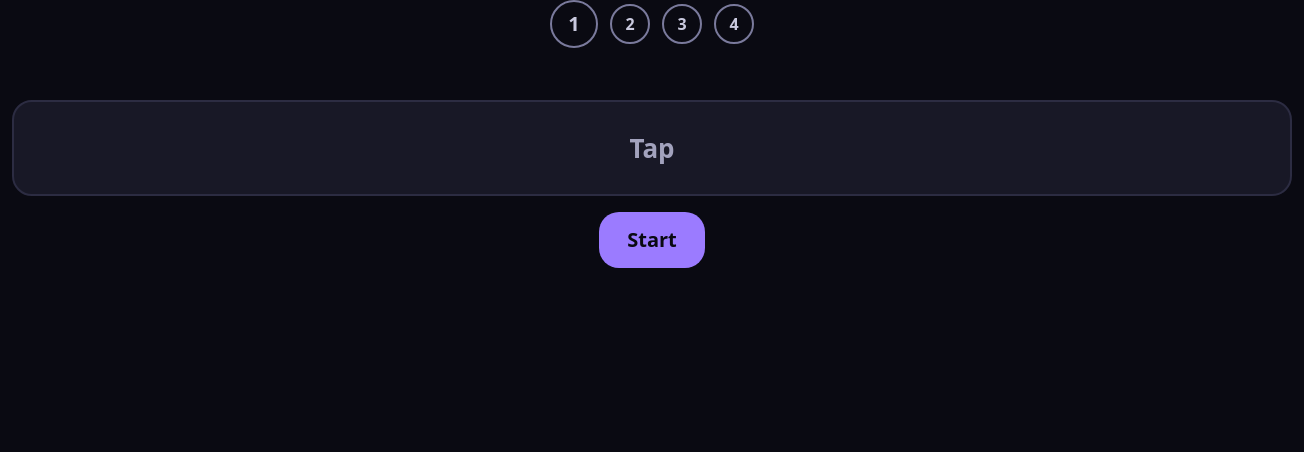
Test: RhythmPad perform mode › reports early, late, missed and extra taps with text labels
The image size is (1304, 452).
Step 1. Click the button "Start" → coordinates (652, 240), box [599, 212, 705, 268]
Wait 1999 ms
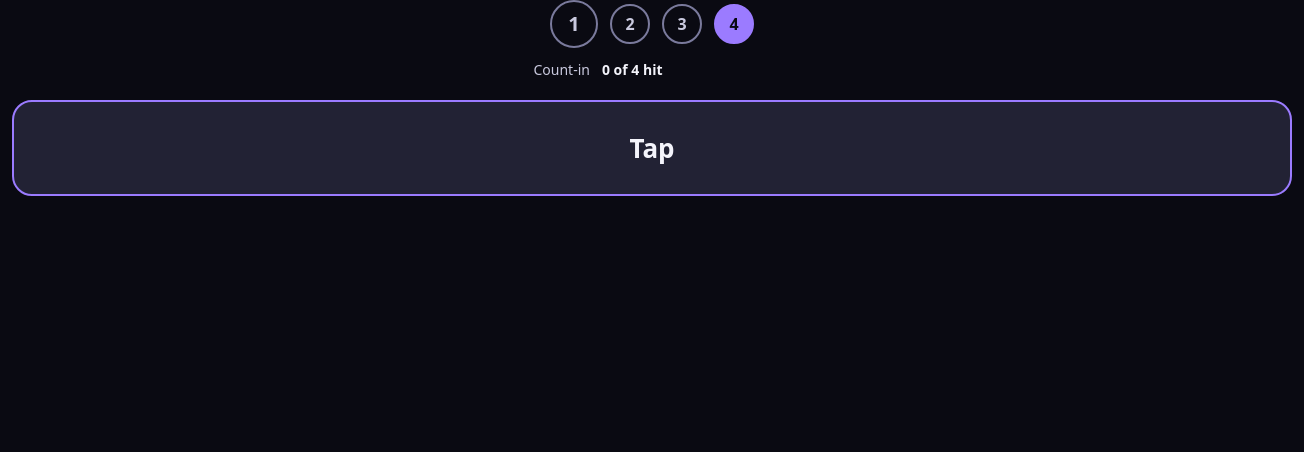
Step 2. Press the mouse on the button with test id "tap-target" → coordinates (652, 148), box [12, 100, 1292, 196]
Wait 719 ms
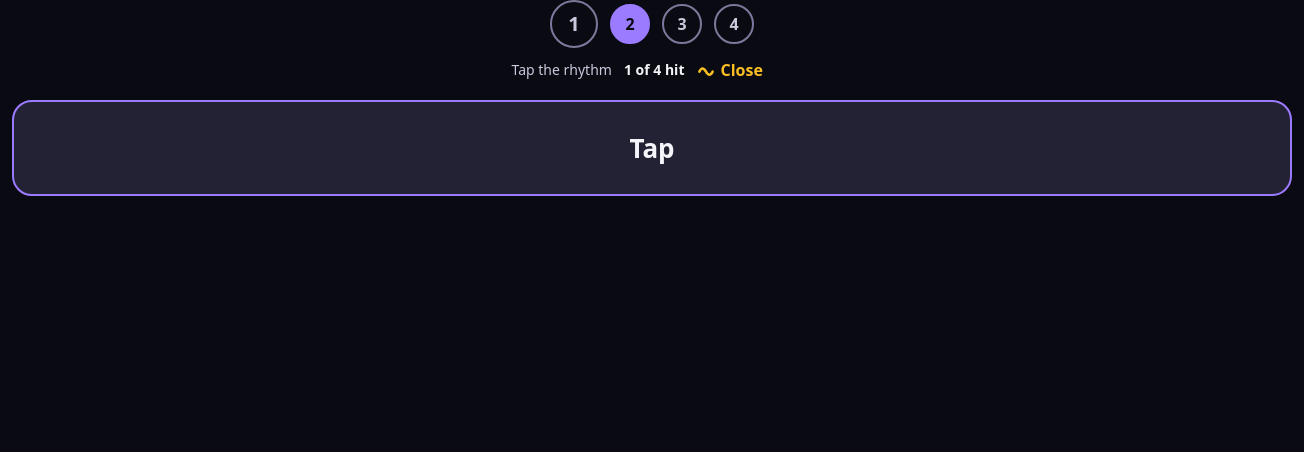
Step 3. Press the mouse on the button with test id "tap-target" → coordinates (652, 148), box [12, 100, 1292, 196]
Wait 879 ms
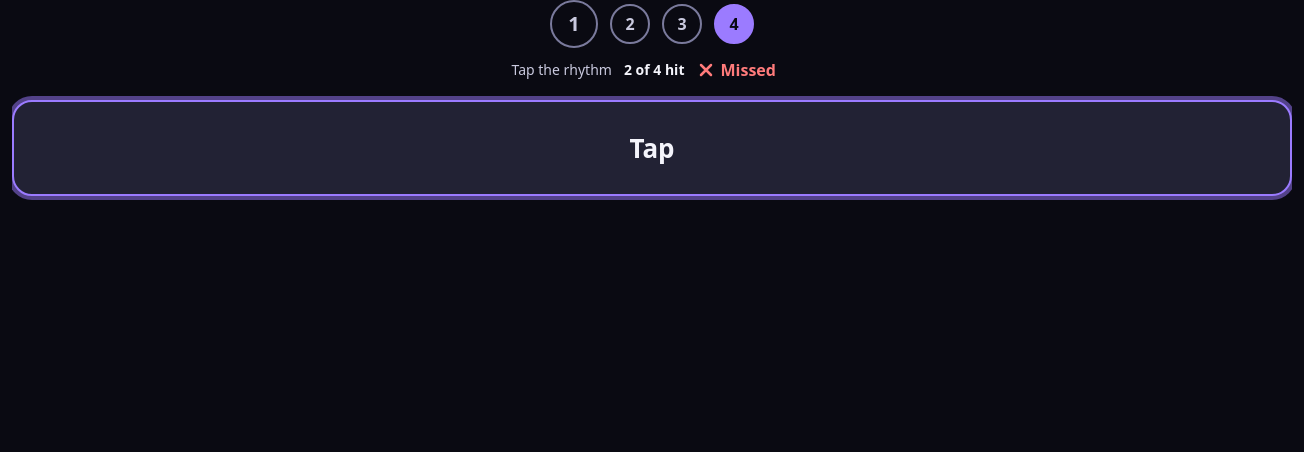
Step 4. Press the mouse on the button with test id "tap-target" → coordinates (652, 148), box [12, 100, 1292, 196]
Wait 399 ms
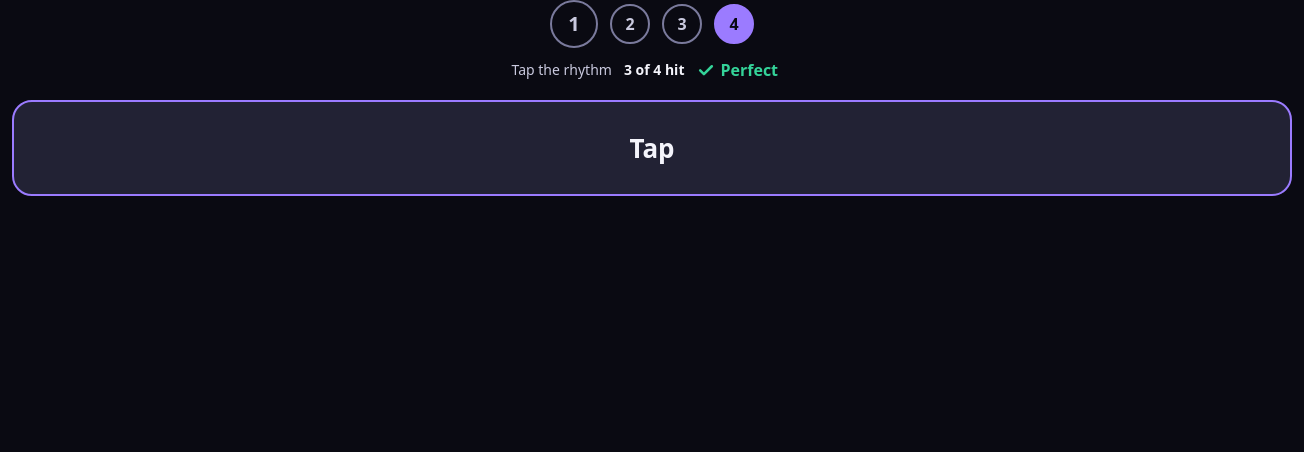
Step 5. Press the mouse on the button with test id "tap-target" → coordinates (652, 148), box [12, 100, 1292, 196]
Wait 1100 ms
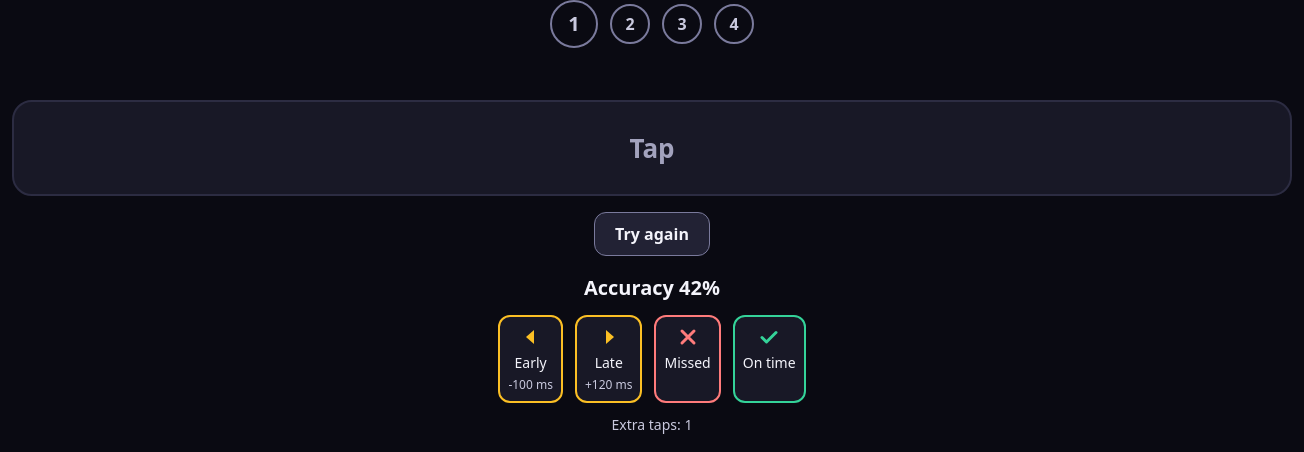
Now the list item "Early -100 ms" is shown, box [498, 315, 563, 403]
Now the list item "Late +120 ms" is shown, box [575, 315, 642, 403]
Now the list item "Missed" is shown, box [654, 315, 721, 403]
